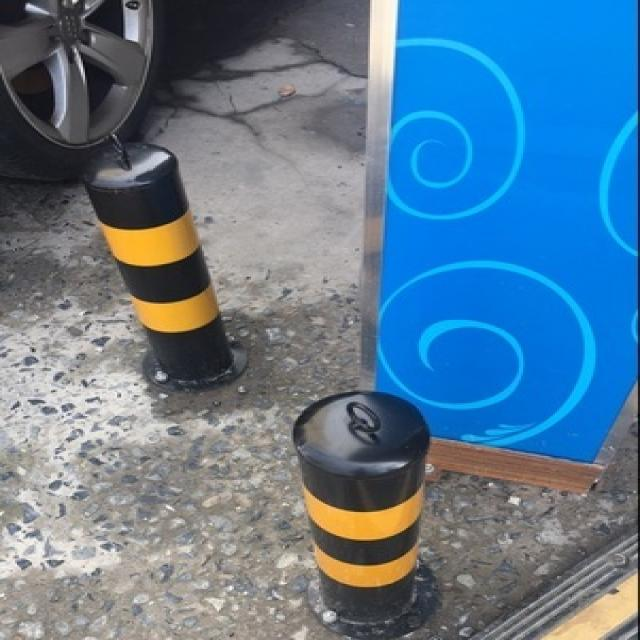warning_column: (81, 130, 249, 388), (291, 387, 434, 629)
